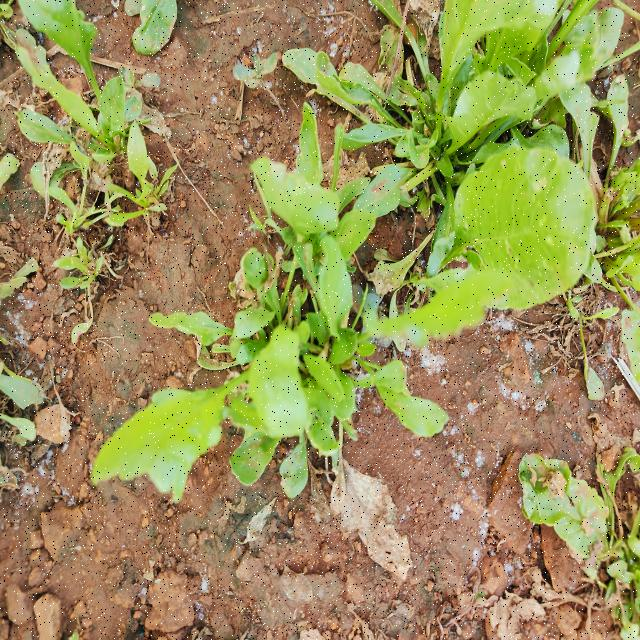leaves: (79, 327, 285, 519), (345, 235, 519, 390), (240, 142, 351, 331), (330, 354, 471, 449), (289, 223, 367, 360), (244, 309, 318, 446), (225, 399, 310, 500), (277, 407, 318, 504), (224, 241, 272, 315)
